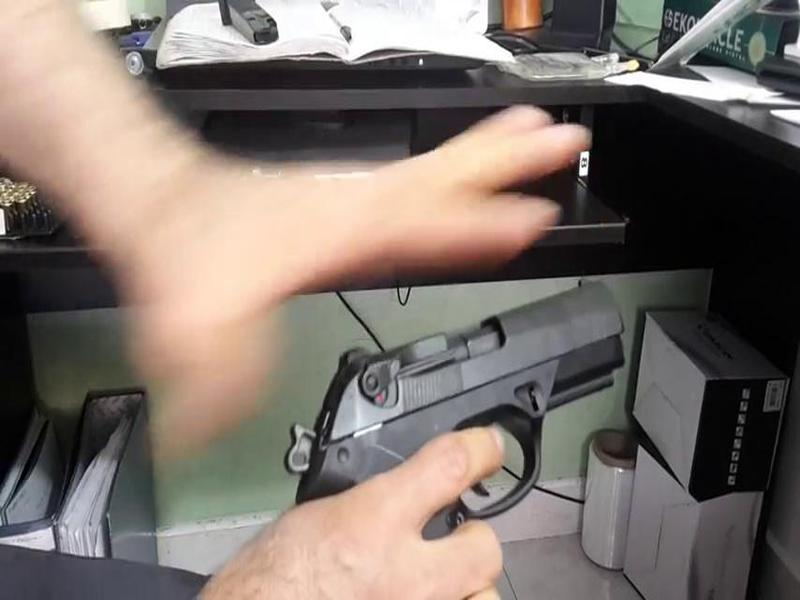Pistola: (265, 284, 644, 531)
